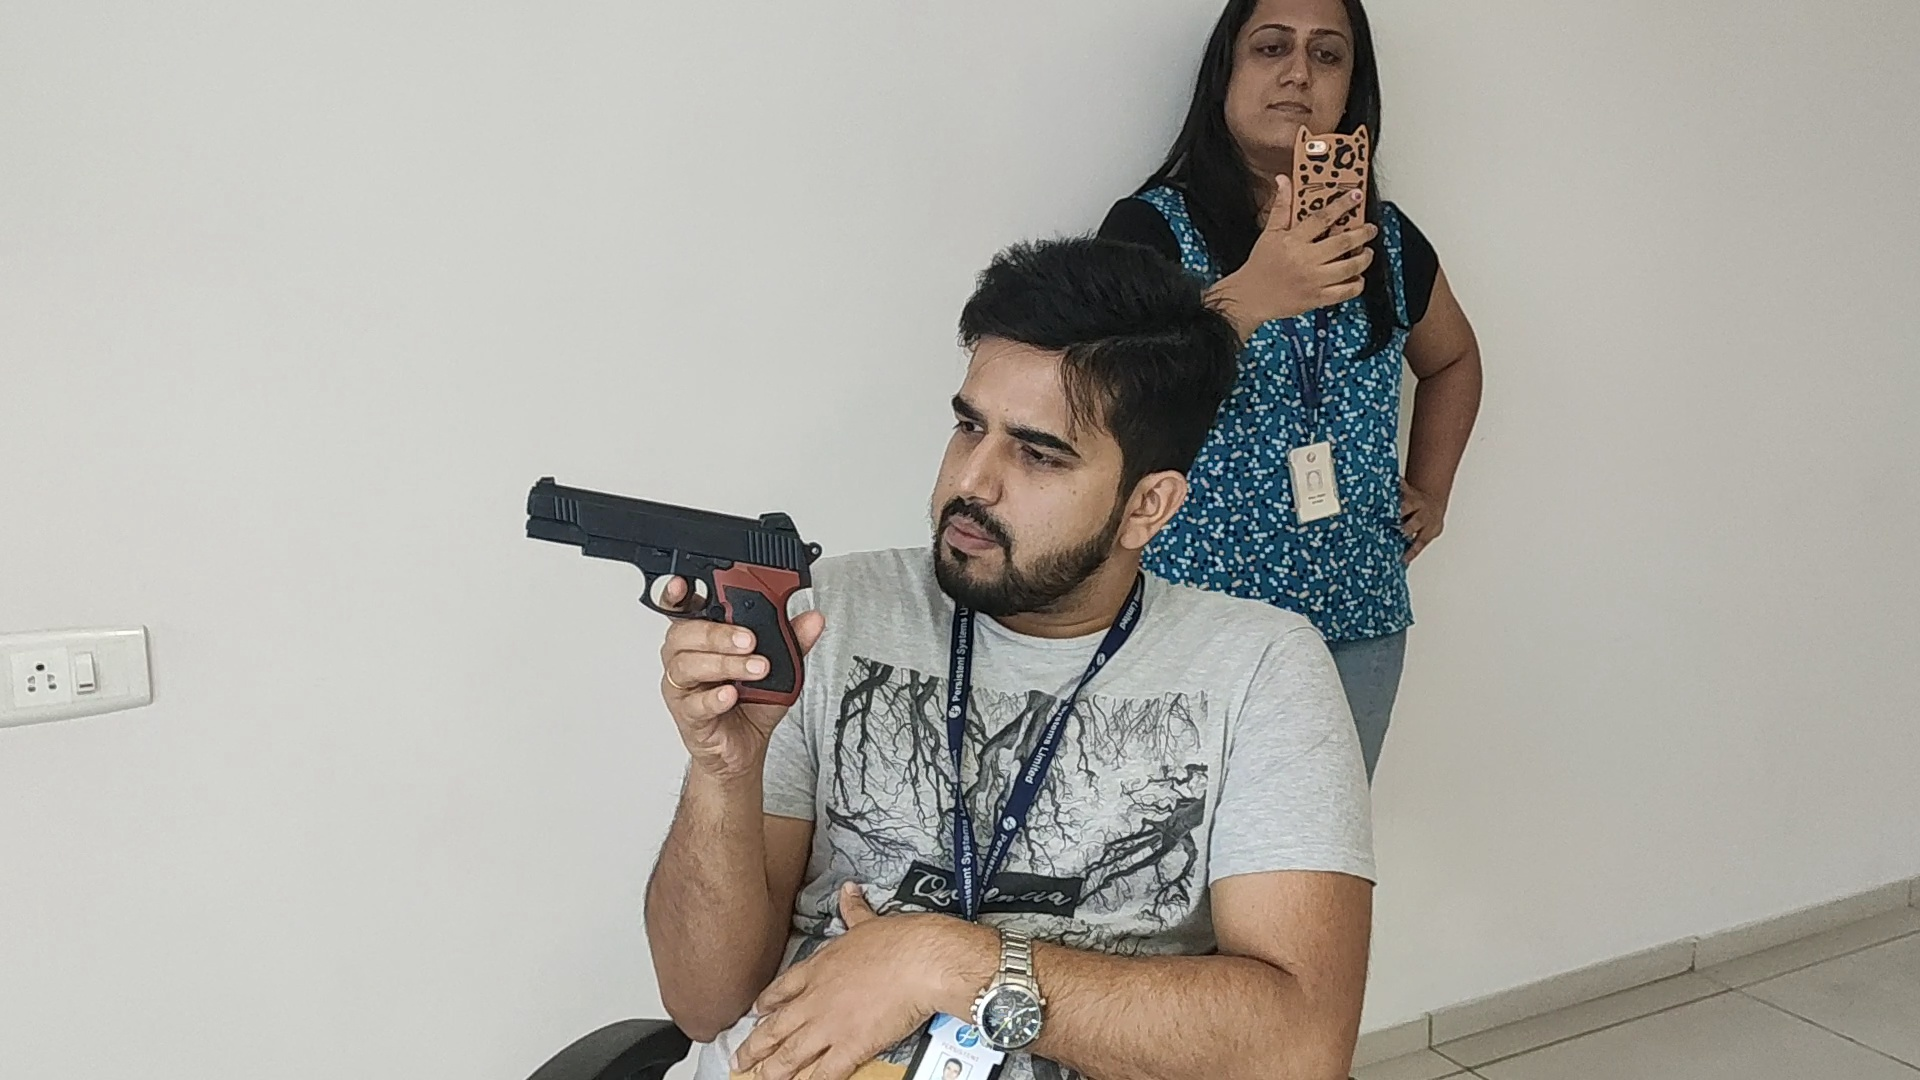gun: (524, 477, 820, 611)
